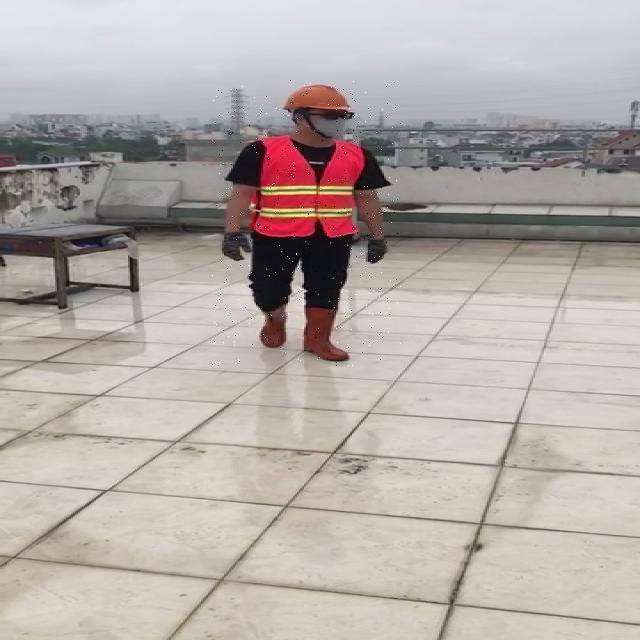gloves: (216, 229, 253, 263), (362, 236, 388, 264)
goggles: (302, 111, 356, 123)
helmet: (279, 84, 352, 113)
safety_vest: (254, 140, 362, 239)
